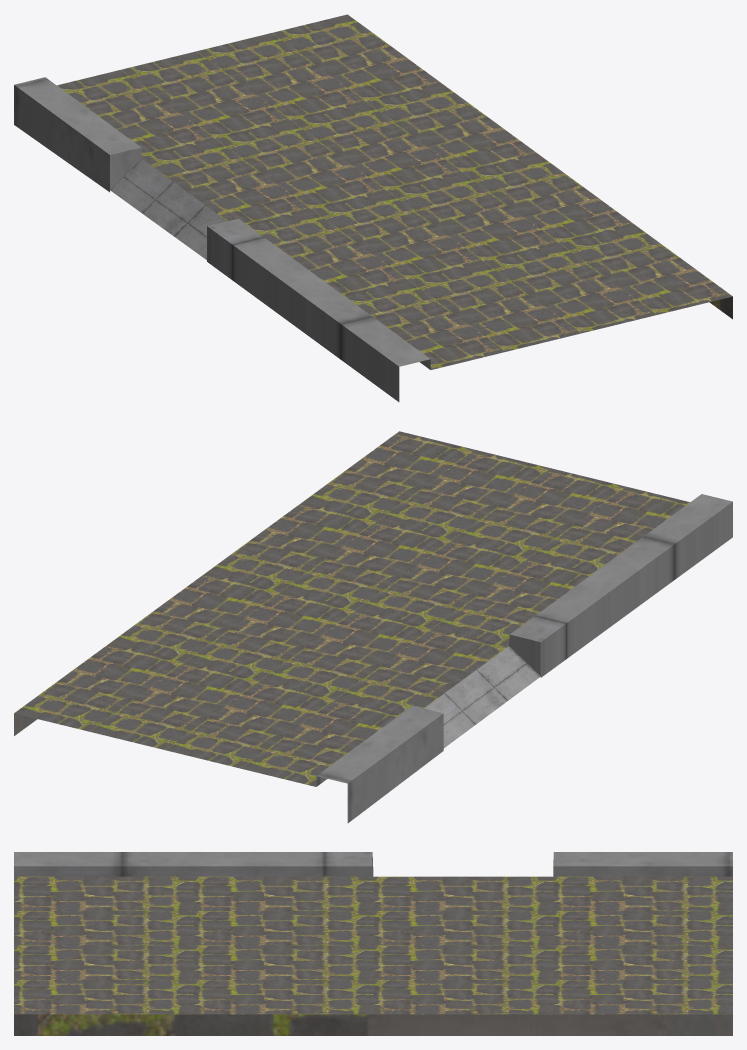
File: CrossingSide.fbx
3 renders of one model, top to bottom at view 1: azimuth 30°, elevation 25°; view 2: azimuth 150°, elevation 25°; view 3: azimuth 270°, elevation 25°, orthographic. The views are drawn at different scales.
Parts seen in each view (by area): view 1: CrossingSide; view 2: CrossingSide; view 3: CrossingSide.
Boxes of the visible parts, x1,y1,x2,y2 form: CrossingSide: (14, 14, 732, 401); CrossingSide: (14, 431, 732, 823); CrossingSide: (14, 852, 732, 1035).
Bounding box in the file's own units: 185 × 21.22 × 370.
